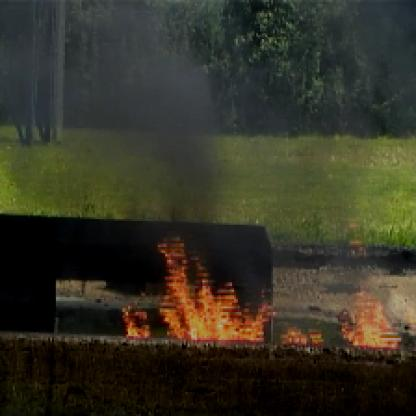Fire: (108, 221, 406, 355)
Smoke: (2, 2, 239, 239), (294, 2, 408, 238)
